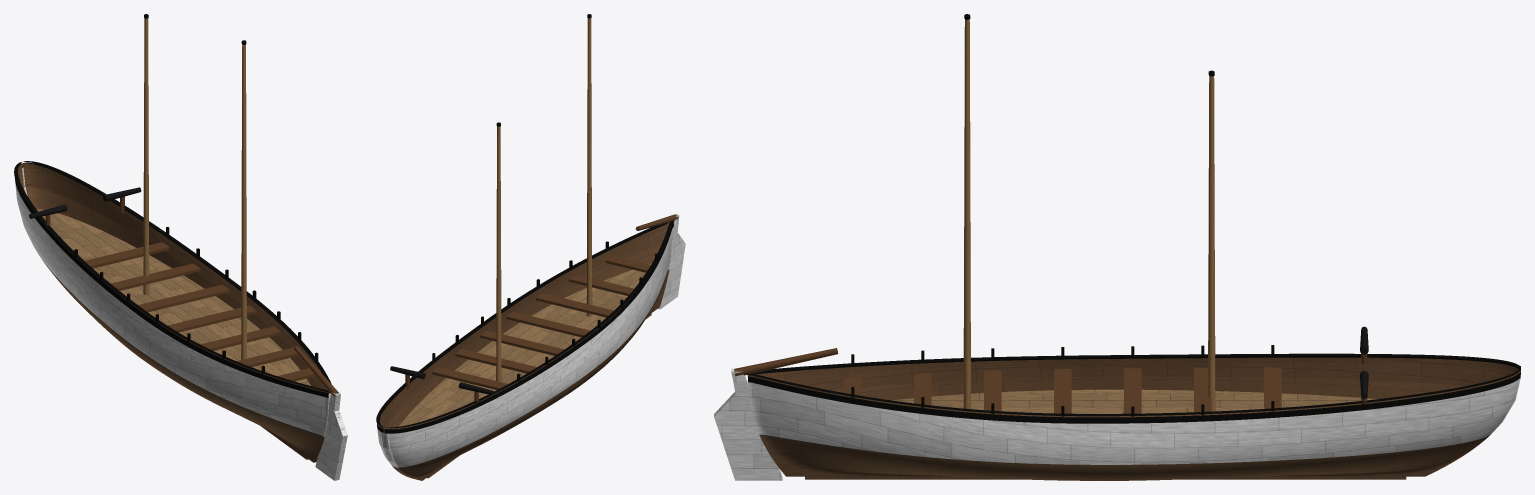
The model's file is periagua.glb.
The picture shows the model from 3 angles, left to right: view 1: azimuth 30°, elevation 25°; view 2: azimuth 150°, elevation 25°; view 3: azimuth 270°, elevation 25°; orthographic projection. The views are drawn at different scales.
Parts seen in each view (by area): view 1: hull; view 2: hull; view 3: hull.
Boxes of the visible parts, bbox=[...] form: hull: bbox=[14, 14, 347, 480]; hull: bbox=[376, 14, 685, 480]; hull: bbox=[714, 14, 1520, 480].
Size of the model in its own units: 2.49 by 8.04 by 12.68.
8 materials, 4 textured.
